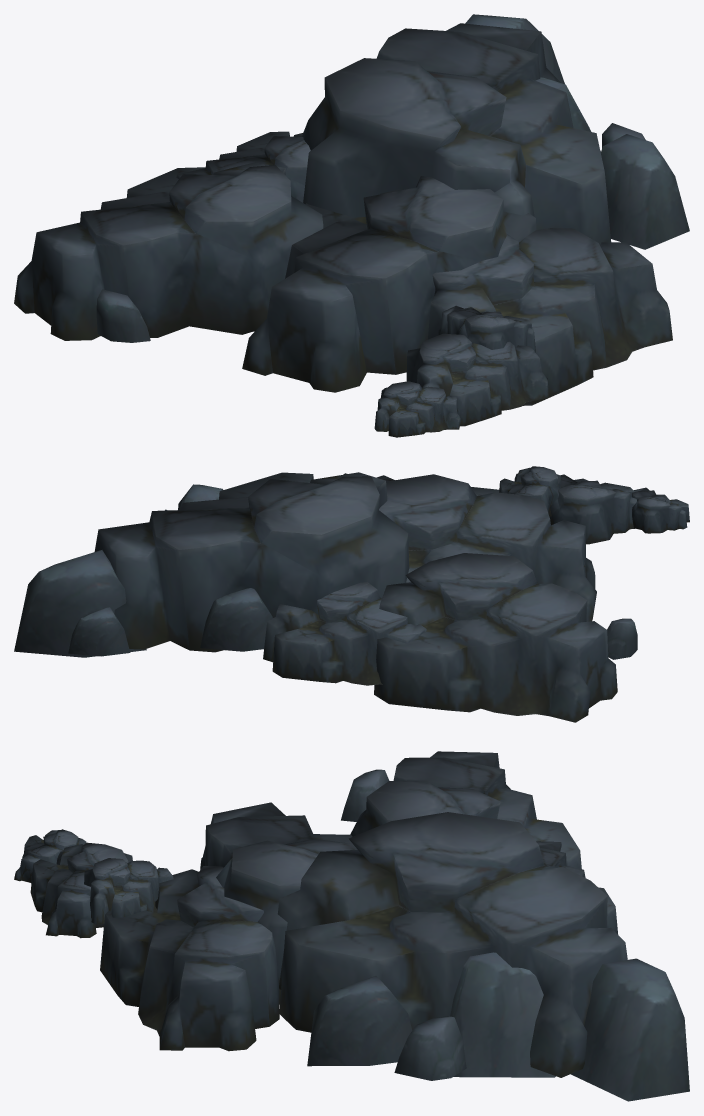
Rendered from Area_11_1.fbx.
3 renders of one model, top to bottom at view 1: azimuth 30°, elevation 25°; view 2: azimuth 150°, elevation 25°; view 3: azimuth 270°, elevation 25°, orthographic. The views are drawn at different scales.
Visible parts, largest first — view 1: Area_11_1; view 2: Area_11_1; view 3: Area_11_1.
Part boxes in pixels (x1=…): Area_11_1: x1=14, y1=14, x2=689, y2=437; Area_11_1: x1=14, y1=466, x2=689, y2=722; Area_11_1: x1=14, y1=751, x2=689, y2=1101.
Bounding box in the file's own units: 5017 × 1256 × 4986.
